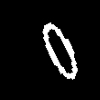chain: (43, 23, 76, 78)
